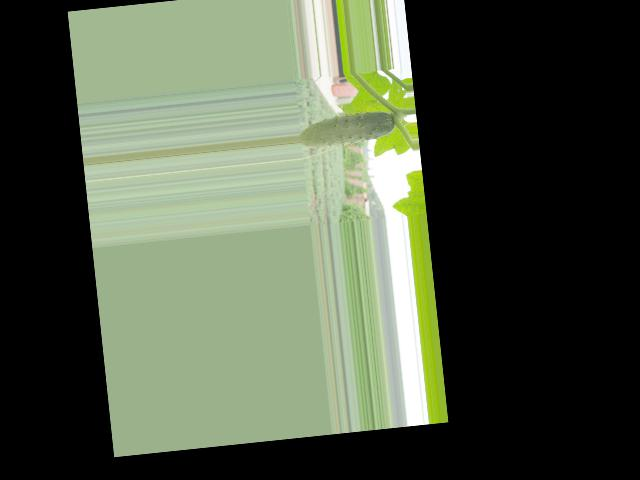cucumber: (297, 109, 396, 150)
